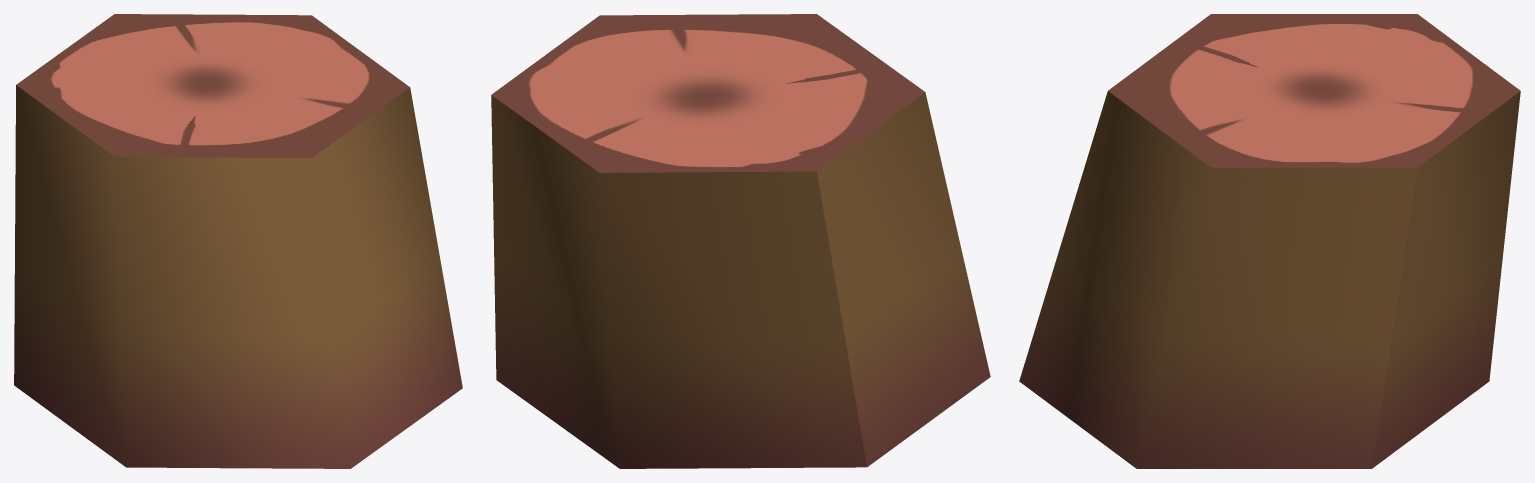
Rendered from Low_Poly_Forest_treeTall05.glb.
The picture shows the model from 3 angles, left to right: view 1: azimuth 30°, elevation 25°; view 2: azimuth 150°, elevation 25°; view 3: azimuth 270°, elevation 25°; orthographic projection. The views are drawn at different scales.
Parts seen in each view (by area): view 1: bark_1; view 2: bark_1; view 3: bark_1.
Part boxes in pixels (bbox=[...]): bark_1: bbox=[14, 14, 462, 468]; bark_1: bbox=[491, 14, 990, 468]; bark_1: bbox=[1019, 14, 1520, 468].
Size of the model in its own units: 0.9254 by 0.7398 by 1.14.
Materials: 1 (1 with a texture image).
